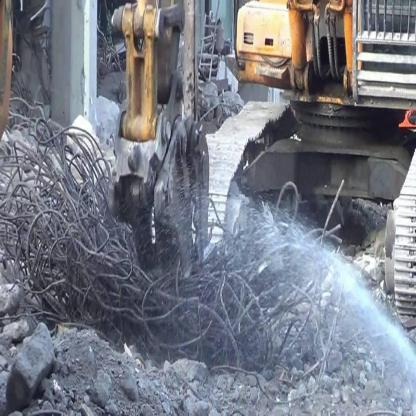rebar: (0, 51, 350, 403), (357, 332, 413, 409), (96, 19, 126, 88), (37, 28, 51, 79)
